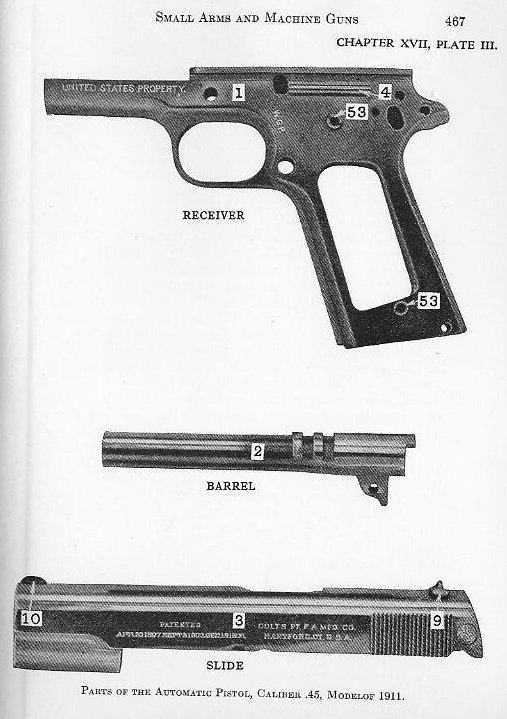pistol: (43, 56, 466, 354)
